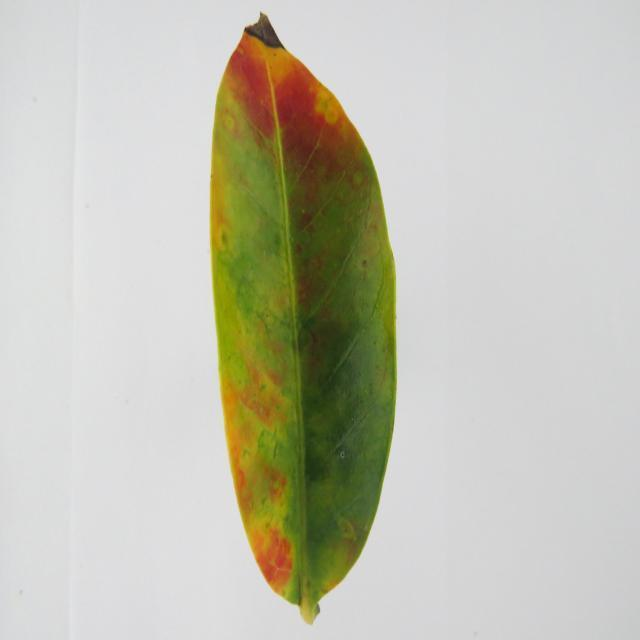DeficienciaNutricional-Fosforo: (210, 13, 396, 623)
